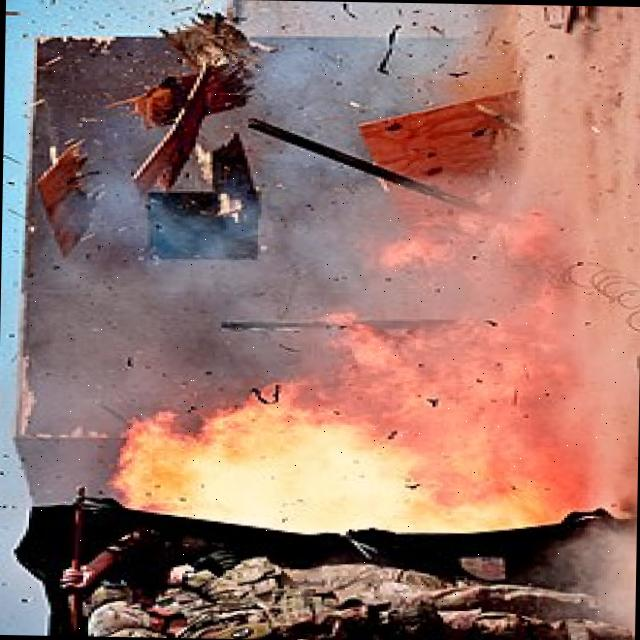explosion: (58, 167, 640, 640)
